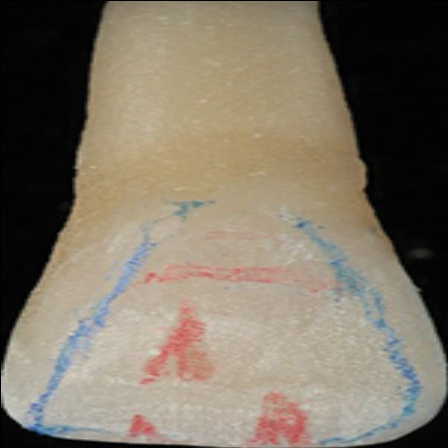coin_1: (361, 192, 381, 212)
coin_2: (413, 290, 433, 310)
coin_3: (76, 197, 96, 217)
coin_4: (28, 304, 48, 324)
